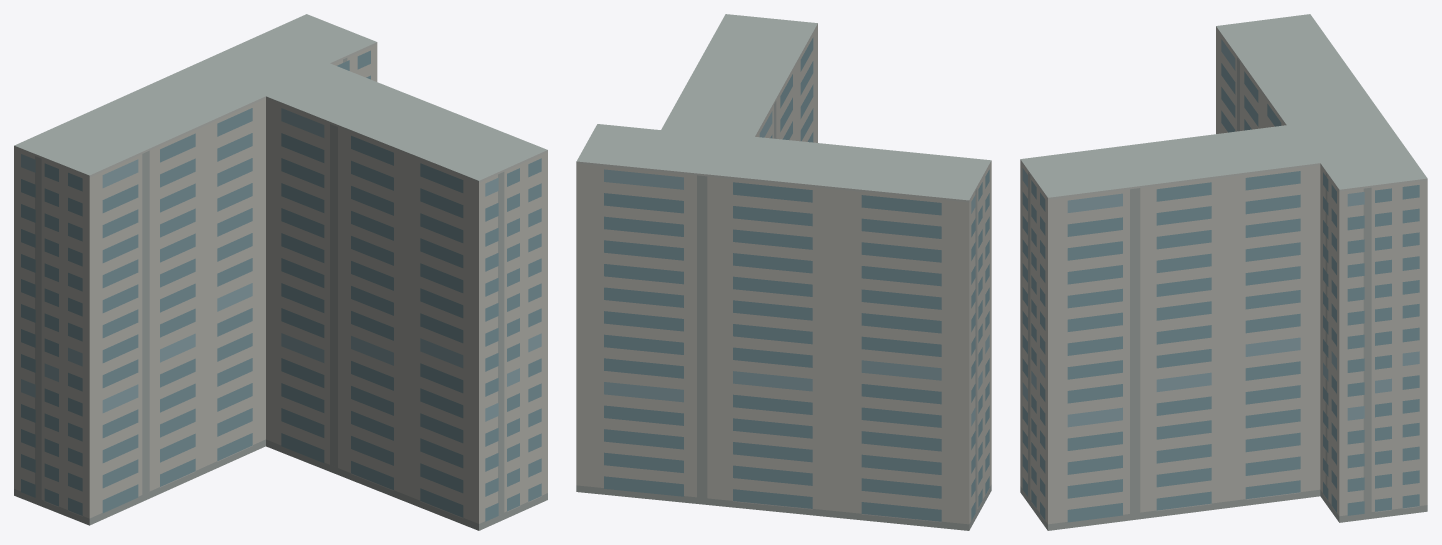
Rendered from residential-0d8330f7-f07b-4078-8227-dd3ee1e5f0b4.glb.
3 renders of one model, left to right at view 1: azimuth 30°, elevation 25°; view 2: azimuth 150°, elevation 25°; view 3: azimuth 270°, elevation 25°, orthographic. The views are drawn at different scales.
Parts seen in each view (by area): view 1: residential-0d8330f7-f07b-4078-8227-dd3ee1e5f0b4.tmp; view 2: residential-0d8330f7-f07b-4078-8227-dd3ee1e5f0b4.tmp; view 3: residential-0d8330f7-f07b-4078-8227-dd3ee1e5f0b4.tmp.
Boxes of the visible parts, left/top/right/bottom form: residential-0d8330f7-f07b-4078-8227-dd3ee1e5f0b4.tmp: left=14, top=14, right=547, bottom=530; residential-0d8330f7-f07b-4078-8227-dd3ee1e5f0b4.tmp: left=576, top=14, right=991, bottom=530; residential-0d8330f7-f07b-4078-8227-dd3ee1e5f0b4.tmp: left=1020, top=14, right=1427, bottom=530.
Bounding box in the file's own units: 49.71 × 42 × 46.57.
